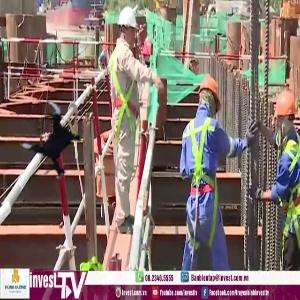drone: (9, 99, 95, 185)
